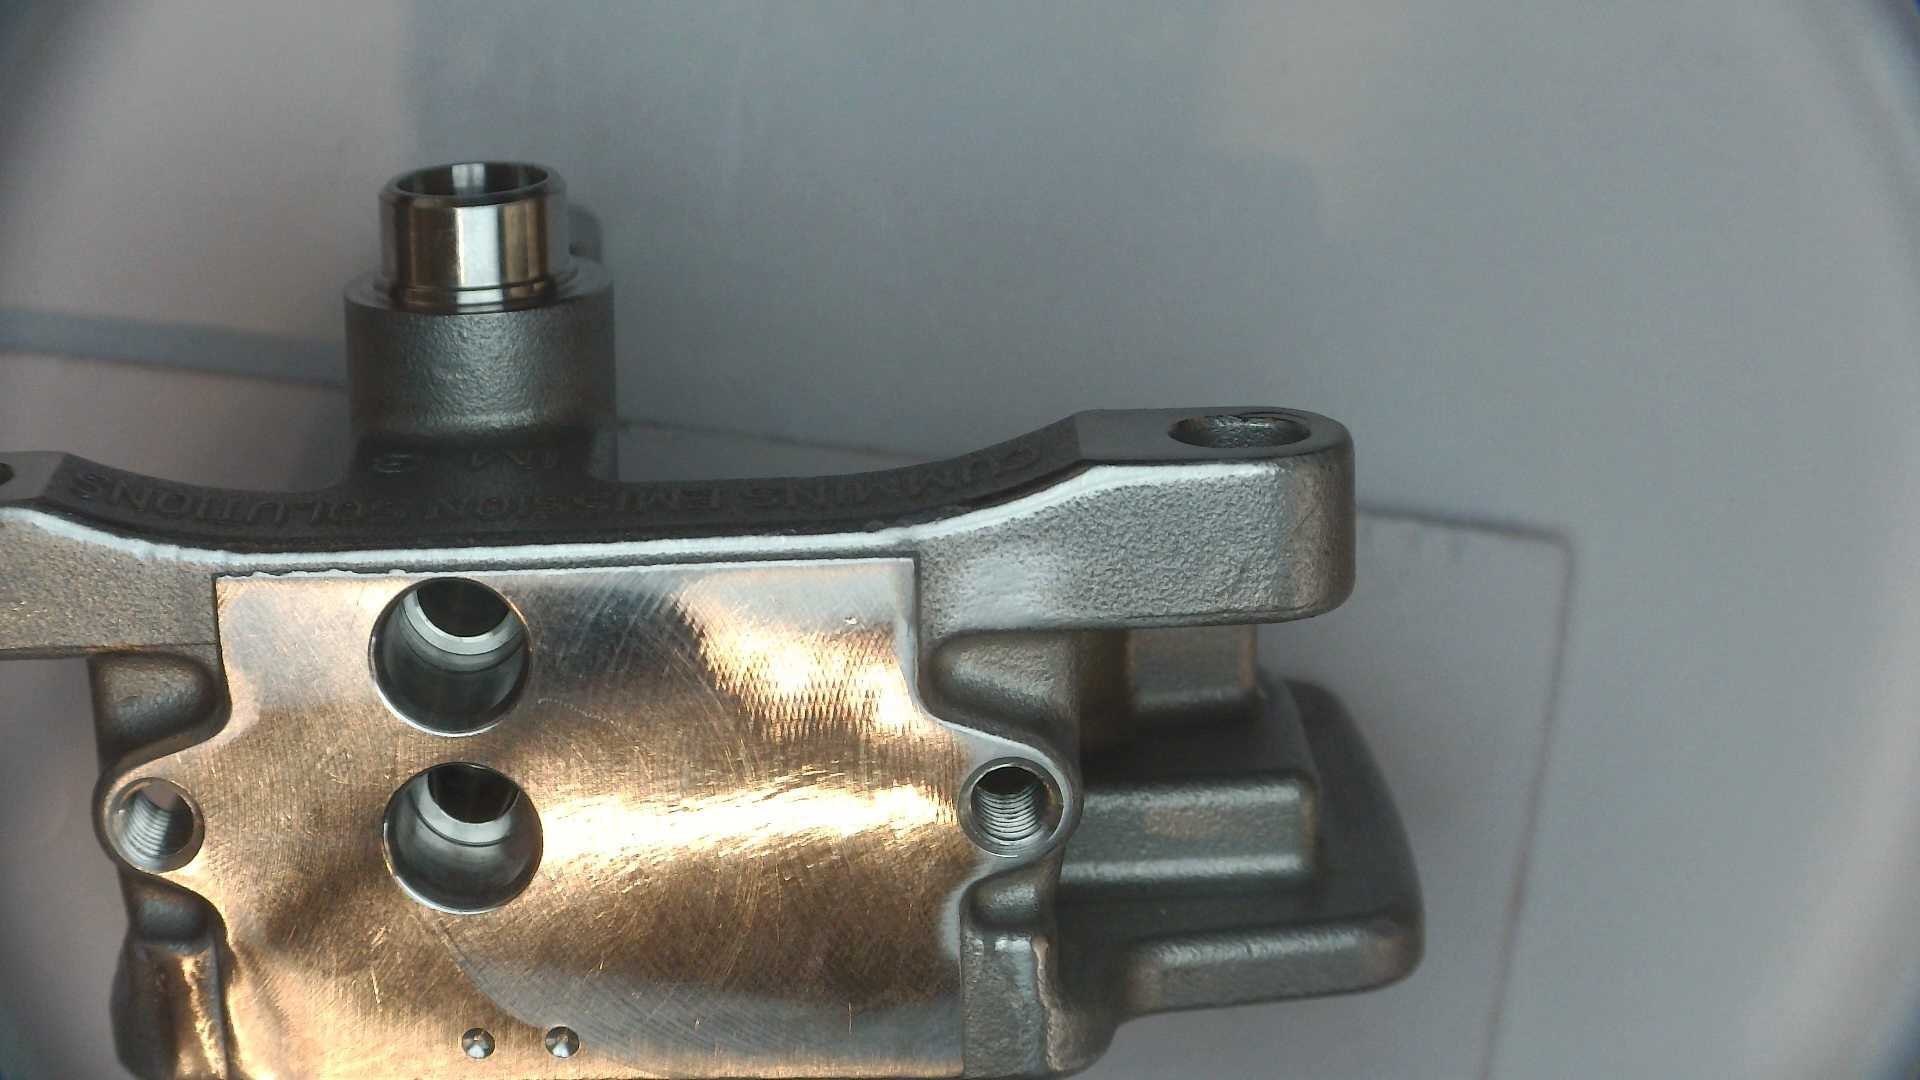thread_absence: (364, 574, 534, 738), (378, 760, 546, 916)
thread_presence: (968, 764, 1054, 847), (112, 781, 198, 862)
